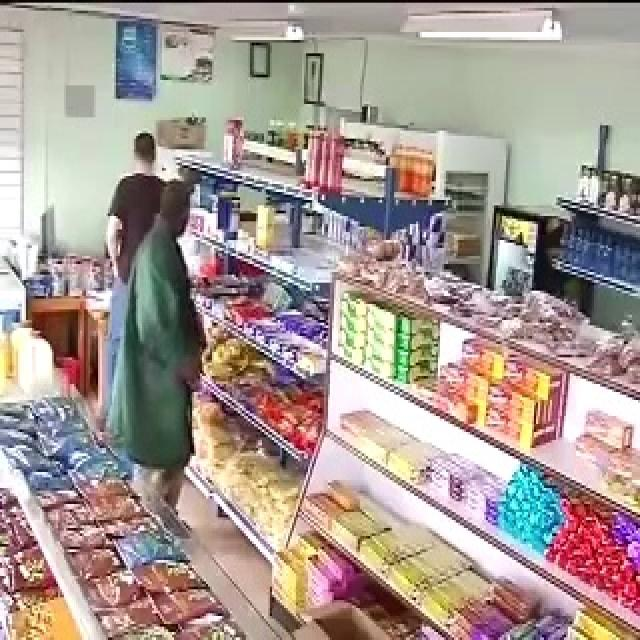Product: (178, 332, 220, 386)
normal: (115, 114, 178, 200)
shoplifting: (109, 180, 268, 505)
